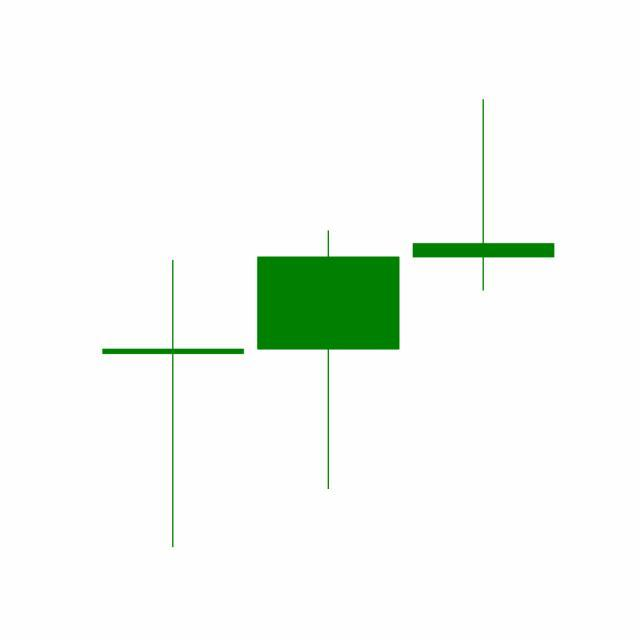Spinning Top: (406, 97, 562, 293)
